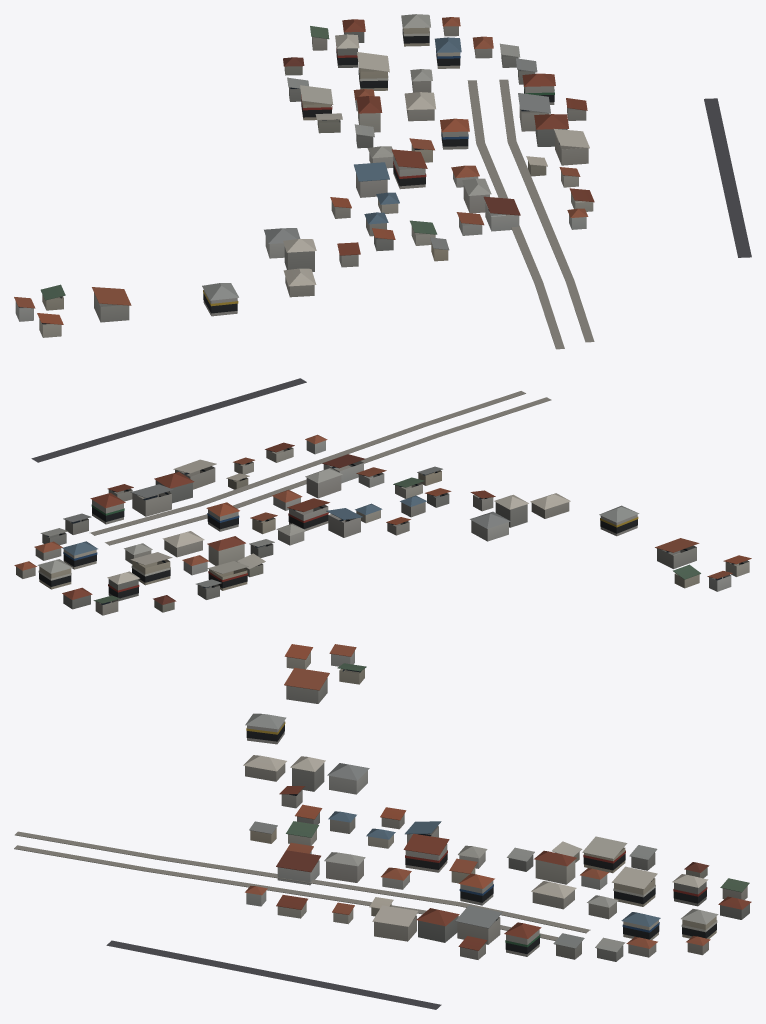
3 views of the same model, one above another, from view 1: azimuth 30°, elevation 25°; view 2: azimuth 150°, elevation 25°; view 3: azimuth 270°, elevation 25° (orthographic). The views are drawn at different scales.
Visible parts, largest first — view 1: Buildings_Infill__r3c2-col, Sidewalks__r3c2-col, Roads_Minor__r3c2; view 2: Buildings_Infill__r3c2-col, Sidewalks__r3c2-col, Roads_Minor__r3c2; view 3: Buildings_Infill__r3c2-col, Sidewalks__r3c2-col, Roads_Minor__r3c2.
Boxes of the visible parts, x1,y1,x2,y2 form: Buildings_Infill__r3c2-col: [14, 14, 594, 337]; Sidewalks__r3c2-col: [467, 79, 594, 349]; Roads_Minor__r3c2: [704, 98, 751, 257]; Buildings_Infill__r3c2-col: [14, 434, 751, 615]; Sidewalks__r3c2-col: [90, 391, 551, 545]; Roads_Minor__r3c2: [31, 378, 306, 462]; Buildings_Infill__r3c2-col: [243, 644, 751, 961]; Sidewalks__r3c2-col: [14, 831, 590, 940]; Roads_Minor__r3c2: [106, 940, 441, 1009].
Size of the model in its own units: 250 by 9.1 by 221.
